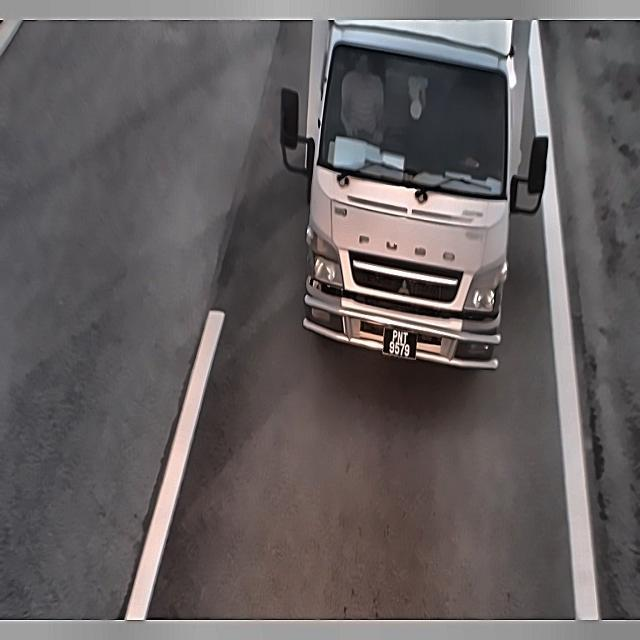car: (384, 317, 417, 366)
